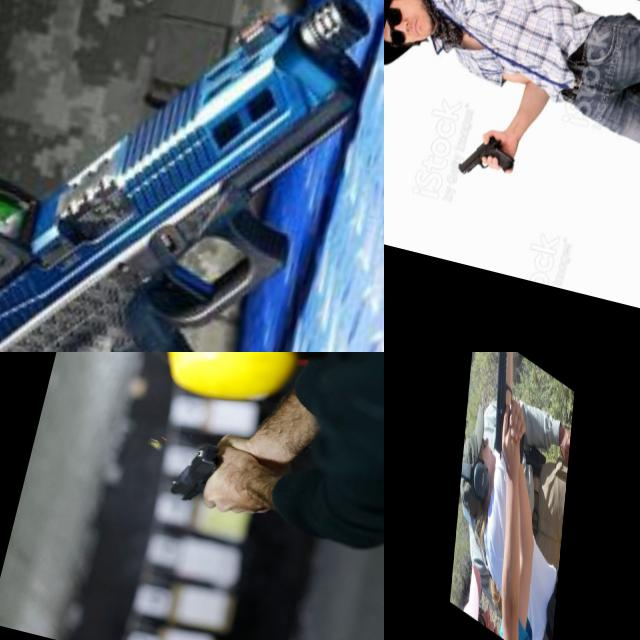handgun: (0, 0, 384, 352), (165, 433, 238, 512), (487, 352, 533, 474), (450, 124, 524, 192), (486, 352, 512, 389)
